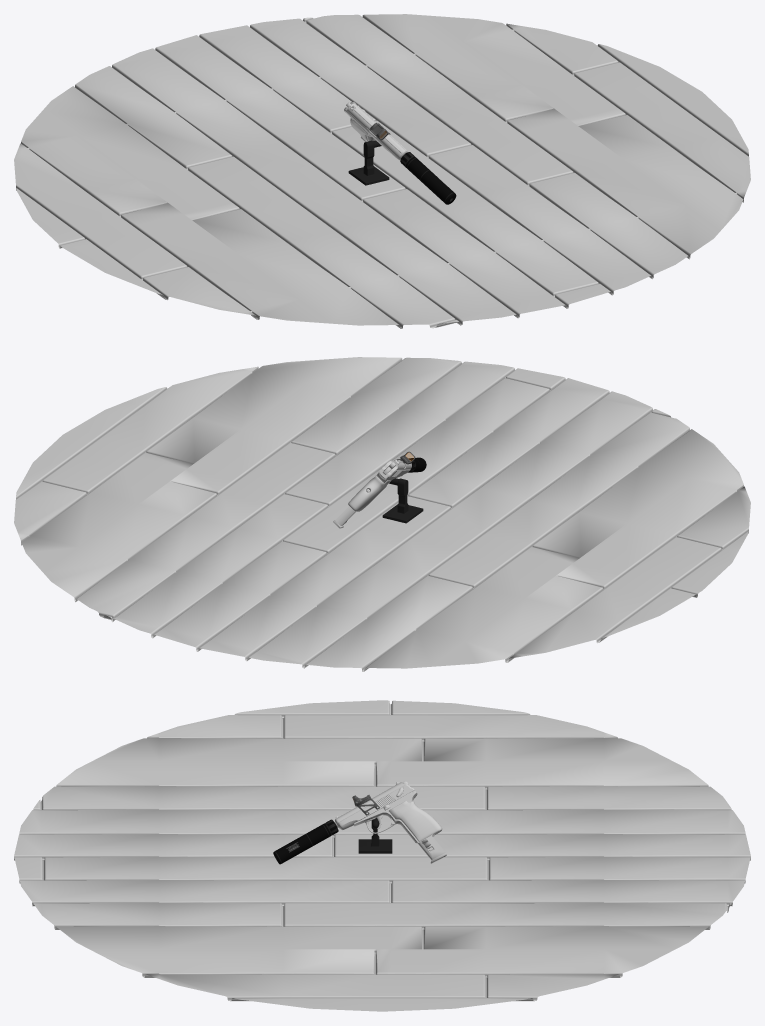
3 views of the same model, one above another, from view 1: azimuth 30°, elevation 25°; view 2: azimuth 150°, elevation 25°; view 3: azimuth 270°, elevation 25° (orthographic).
Visible parts, largest first — view 1: Floor_13, Makarov_suppressor_10, Makarov_slide_9, Stand_14; view 2: Floor_13, Stand_14, Makarov_base_12; view 3: Floor_13, Makarov_base_12, Makarov_slide_9, Makarov_suppressor_10, Stand_14.
Boxes of the visible parts, box(x1,y1,x2,y2) form: Floor_13: box(14, 14, 750, 328); Makarov_suppressor_10: box(400, 152, 456, 204); Makarov_slide_9: box(344, 102, 407, 160); Stand_14: box(348, 140, 389, 185); Floor_13: box(14, 357, 750, 671); Stand_14: box(382, 478, 423, 523); Makarov_base_12: box(348, 463, 405, 511); Floor_13: box(14, 700, 750, 1011); Makarov_base_12: box(334, 790, 442, 844); Makarov_slide_9: box(335, 782, 414, 830); Makarov_suppressor_10: box(273, 819, 338, 864); Stand_14: box(358, 818, 392, 853).
Bounding box in the file's own units: 1.36 × 0.138 × 1.36.
